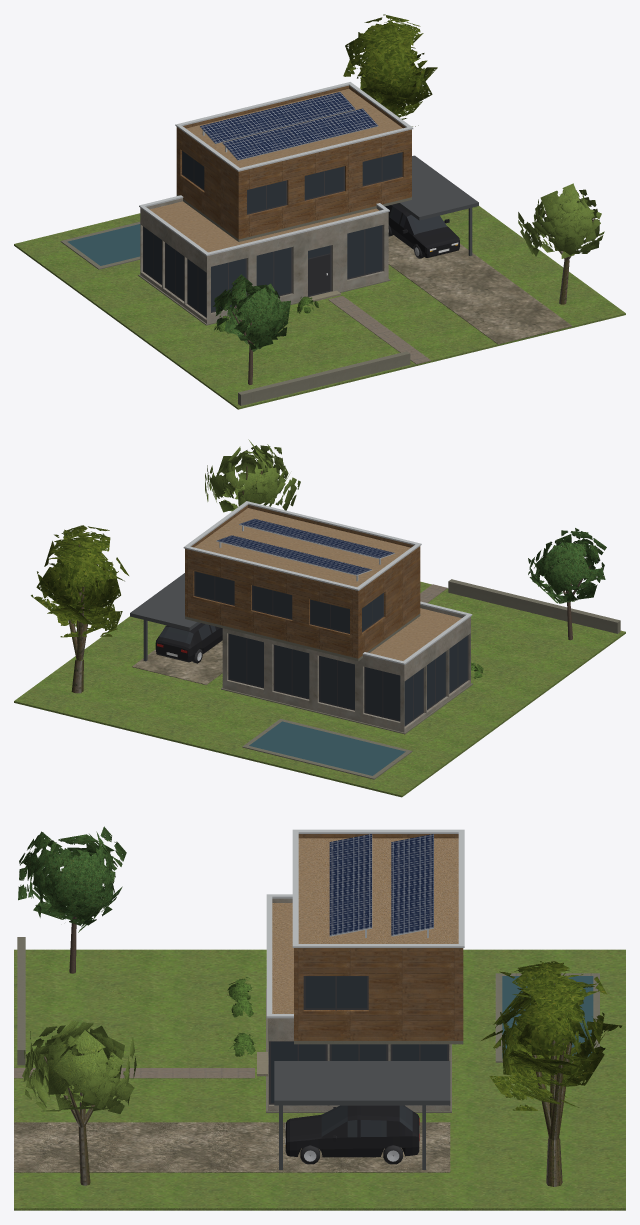
The model's file is house_modern.glb.
The picture shows the model from 3 angles, top to bottom: view 1: azimuth 30°, elevation 25°; view 2: azimuth 150°, elevation 25°; view 3: azimuth 270°, elevation 25°; orthographic projection. The views are drawn at different scales.
Parts seen in each view (by area): view 1: house_modern_body, house_modern_foliage; view 2: house_modern_body, house_modern_foliage; view 3: house_modern_body, house_modern_foliage.
Part boxes in pixels (x1=…): house_modern_body: x1=14, y1=82, x2=625, y2=409; house_modern_foliage: x1=213, y1=14, x2=604, y2=351; house_modern_body: x1=14, y1=466, x2=625, y2=797; house_modern_foliage: x1=31, y1=439, x2=606, y2=678; house_modern_body: x1=14, y1=829, x2=625, y2=1210; house_modern_foliage: x1=18, y1=826, x2=622, y2=1114.
Bounding box in the file's own units: 0.94 × 0.3711 × 0.94.
Materials: 25 (16 with a texture image).
